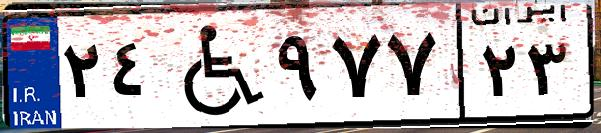2: (57, 26, 110, 100), (475, 38, 525, 113)
3: (525, 38, 570, 115)
4: (110, 28, 158, 98)
7: (385, 28, 445, 110), (330, 28, 385, 110)
9: (270, 28, 330, 110)
ژ (معلولین و جانبازان): (158, 12, 270, 120)
